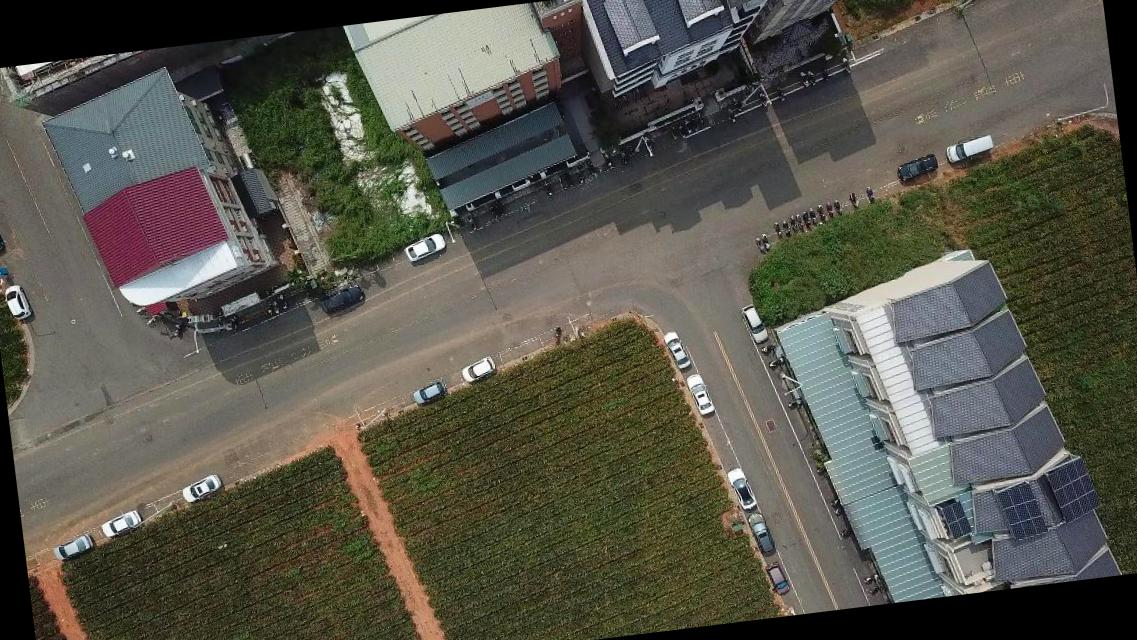vehicle: (723, 466, 758, 512), (315, 284, 364, 316), (944, 132, 995, 162), (400, 232, 447, 264), (894, 152, 939, 184), (659, 328, 691, 372), (740, 301, 770, 346), (50, 532, 94, 562), (178, 474, 222, 504), (99, 509, 141, 538), (686, 373, 713, 418), (2, 282, 32, 322), (746, 513, 774, 555), (458, 356, 496, 384), (409, 378, 446, 406), (765, 560, 792, 597), (0, 216, 5, 254)
